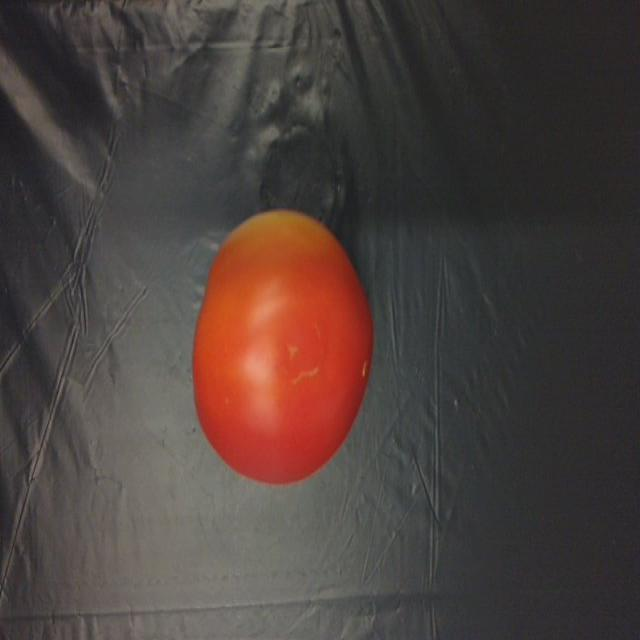kirmizi: (186, 186, 373, 484)
